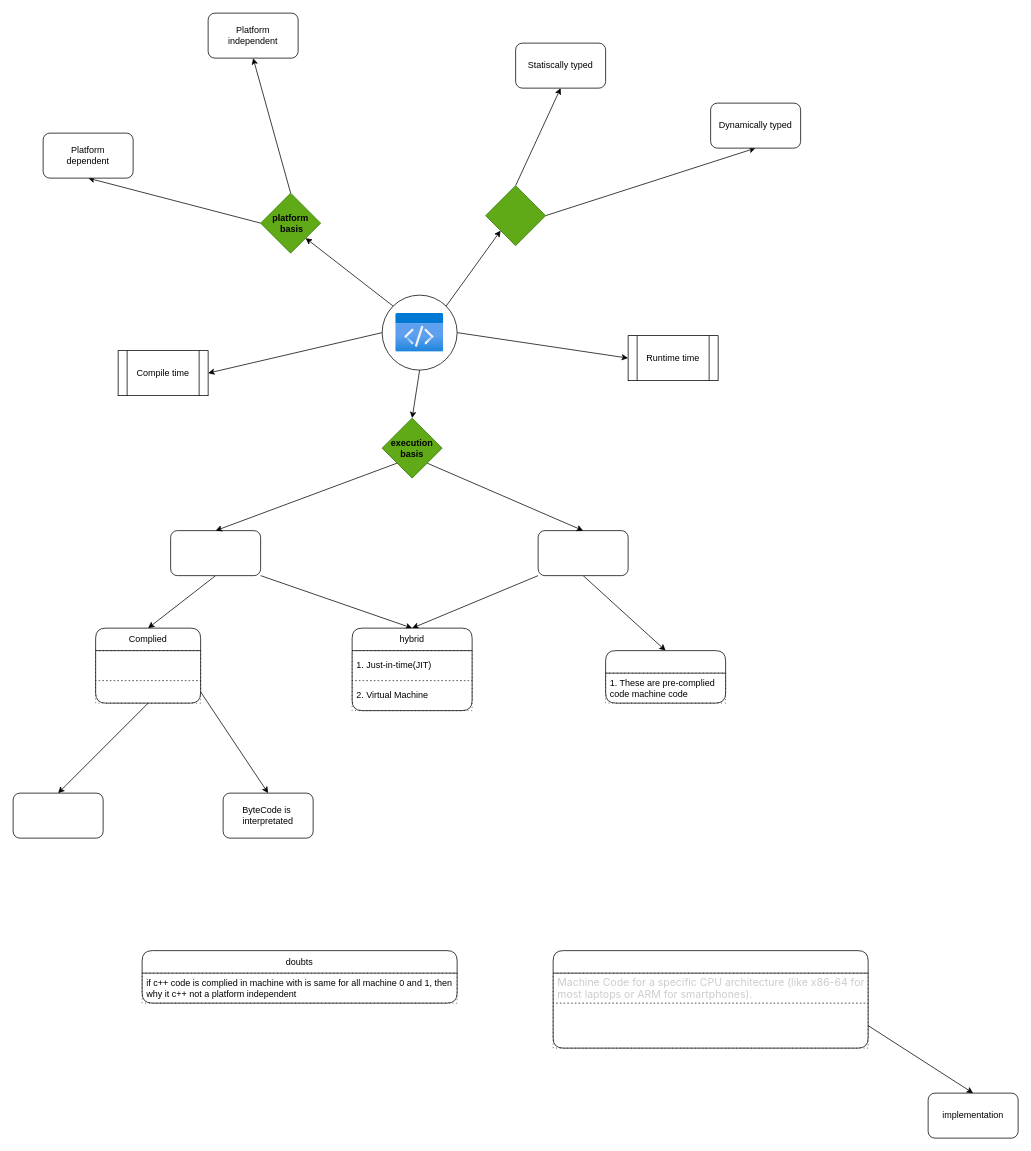
This 1031x1151 diagram has some shape labels left out. The shapes that lost their labels are listed below. From the top down, each one's box as (x1, y1, x2, y2) in pixels, then its label:
(485, 185, 546, 246): typing basis
(170, 530, 261, 576): Complied code(c, c++ etc)
(537, 530, 628, 576): Interpretated code(node.js, python etc)
(95, 650, 201, 681): 1. Complied to machine code(AOT)
(605, 650, 726, 703): Interpretated
(95, 680, 201, 703): 2. Complied to bytecode
(12, 792, 103, 838): Compile to binary????
(552, 950, 868, 1048): info
(552, 1002, 868, 1048): Compilation: Implicit vs. Explicit
